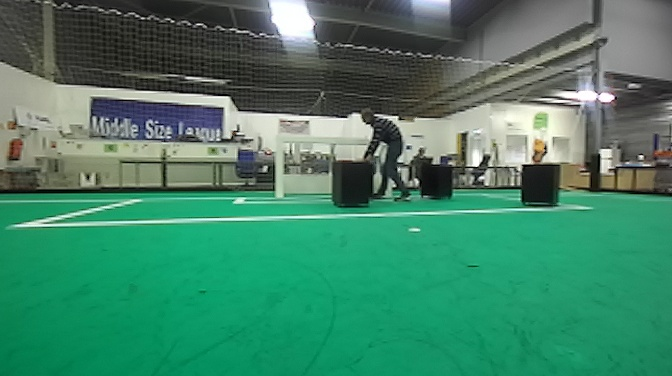goalpost: (269, 132, 290, 204)
human: (355, 105, 407, 206)
